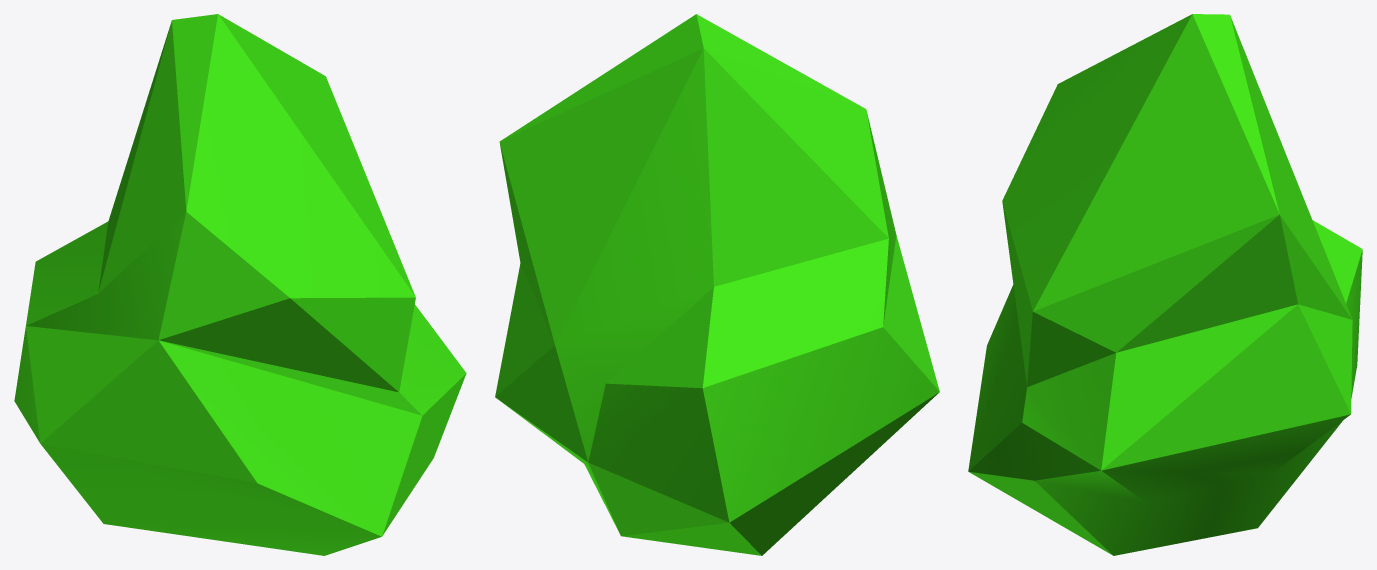
Rendered from Mato 3.fbx.
3 views of the same model, side by side, from view 1: azimuth 30°, elevation 25°; view 2: azimuth 150°, elevation 25°; view 3: azimuth 270°, elevation 25° (orthographic). The views are drawn at different scales.
Parts seen in each view (by area): view 1: Mato 3; view 2: Mato 3; view 3: Mato 3.
Part boxes in pixels (x1=…): Mato 3: x1=14, y1=14, x2=466, y2=555; Mato 3: x1=495, y1=14, x2=939, y2=555; Mato 3: x1=968, y1=14, x2=1362, y2=555.
Size of the model in its own units: 191 by 233 by 163.
